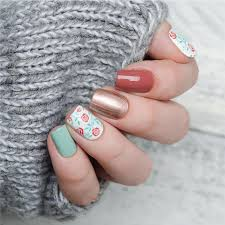nail: (64, 106, 101, 140), (91, 86, 127, 117), (113, 67, 154, 91), (169, 26, 197, 59), (51, 125, 77, 156)
